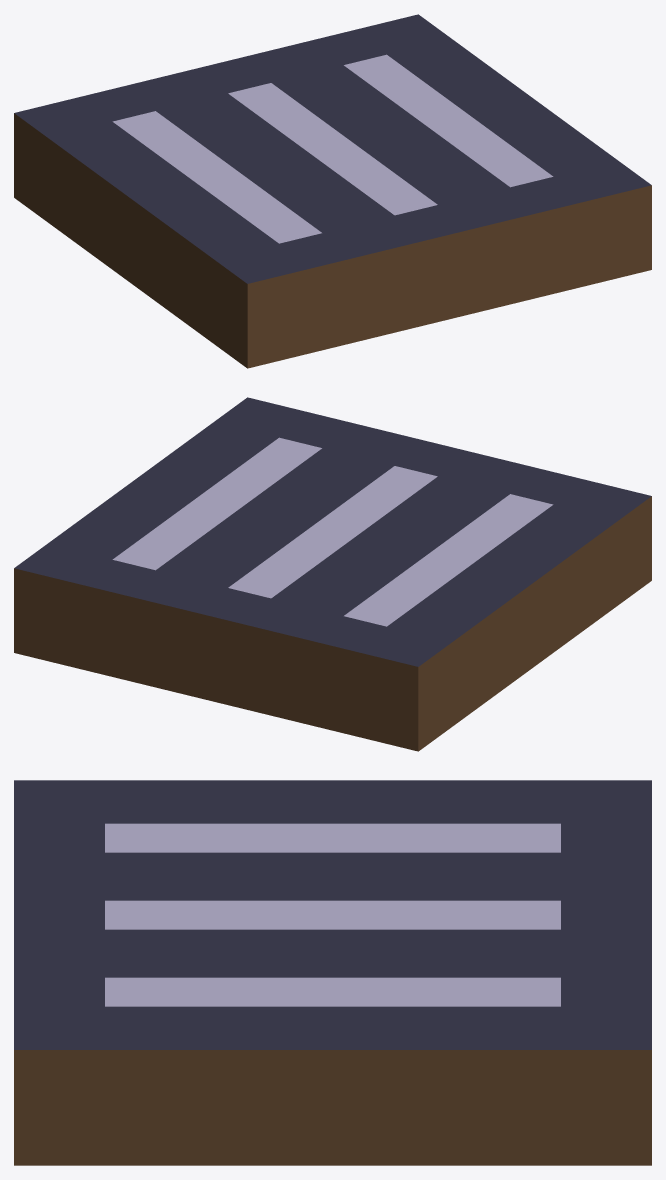
Rendered from cross_road_1.fbx.
3 renders of one model, top to bottom at view 1: azimuth 30°, elevation 25°; view 2: azimuth 150°, elevation 25°; view 3: azimuth 270°, elevation 25°, orthographic. The views are drawn at different scales.
Visible parts, largest first — view 1: Cube.004; view 2: Cube.004; view 3: Cube.004.
Boxes of the visible parts, bbox=[...] form: Cube.004: bbox=[14, 14, 651, 368]; Cube.004: bbox=[14, 397, 651, 751]; Cube.004: bbox=[14, 780, 651, 1165].
Size of the model in its own units: 1000 by 200 by 1000.
Materials: 1 (1 with a texture image).
